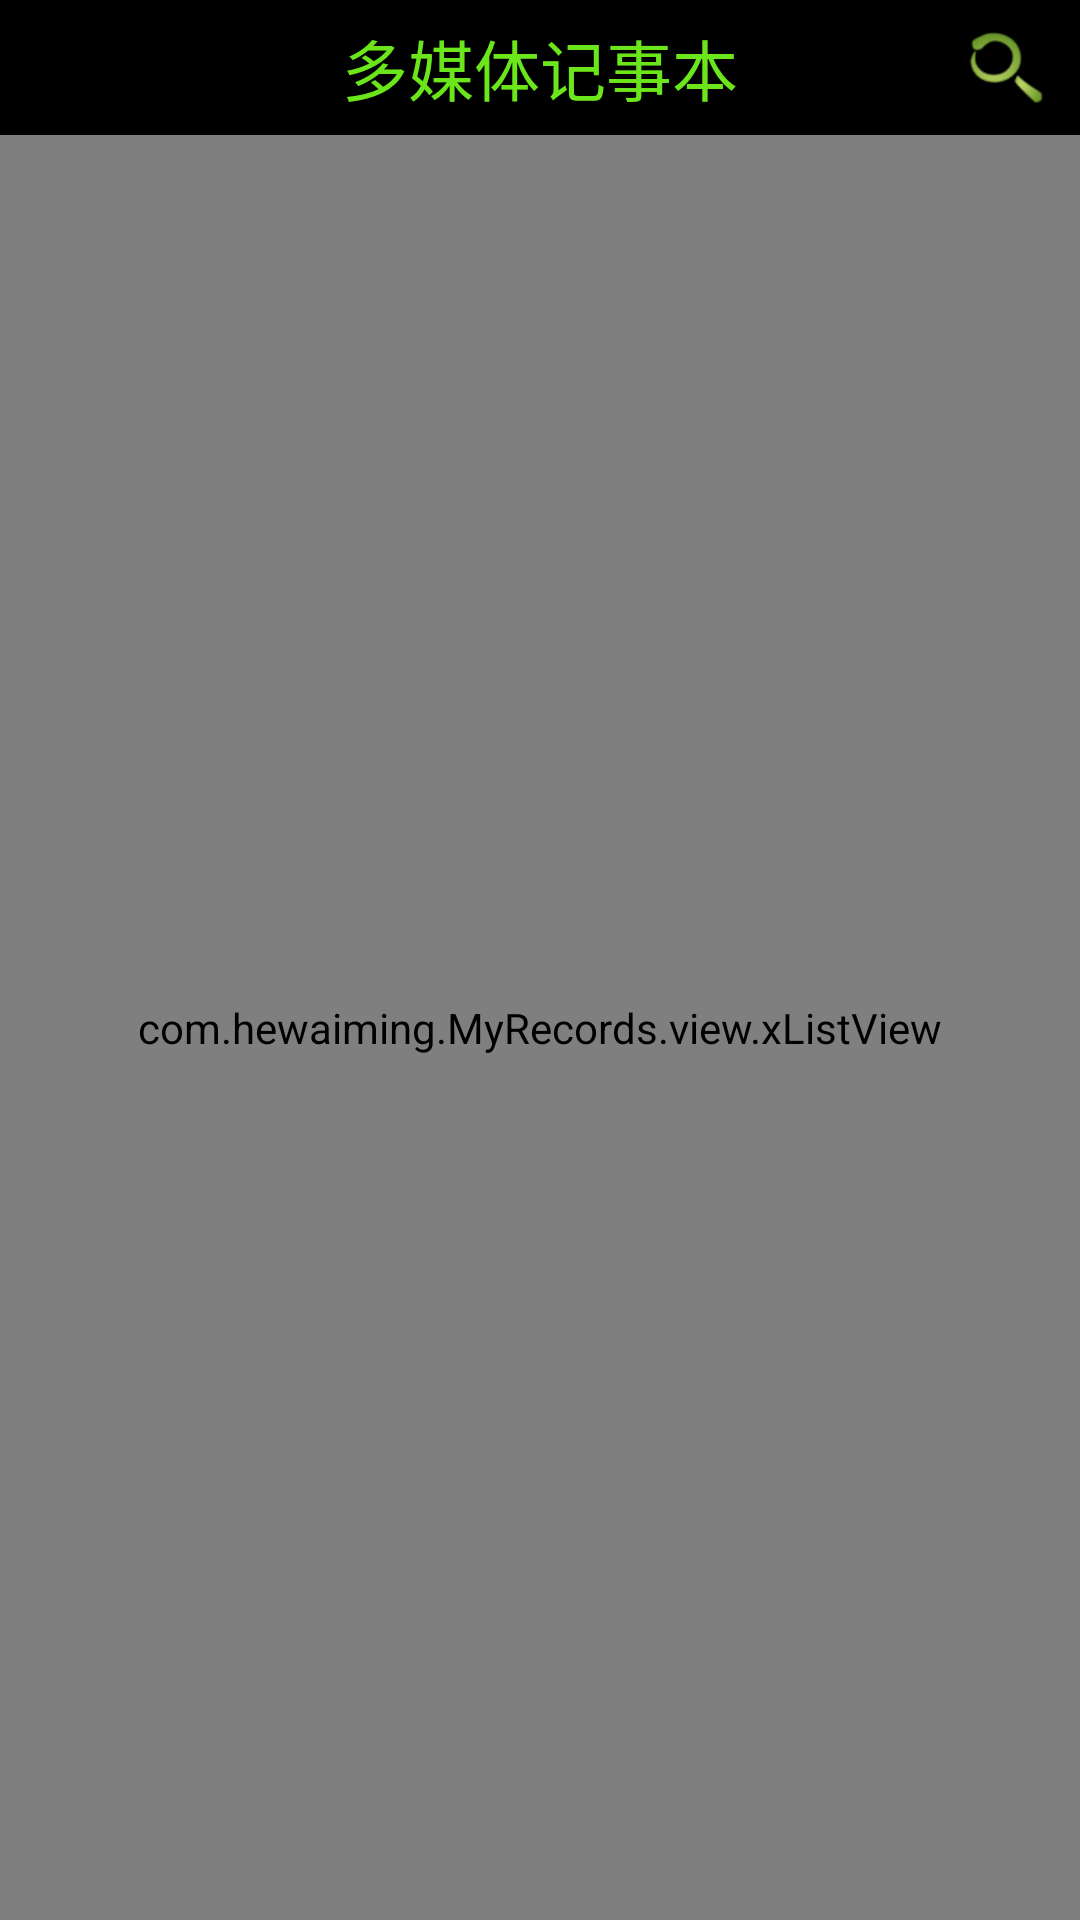

Point at icon controls on the screen. Image size 1080px×1920px, points as point (x, y).
search: point (1006, 68)
